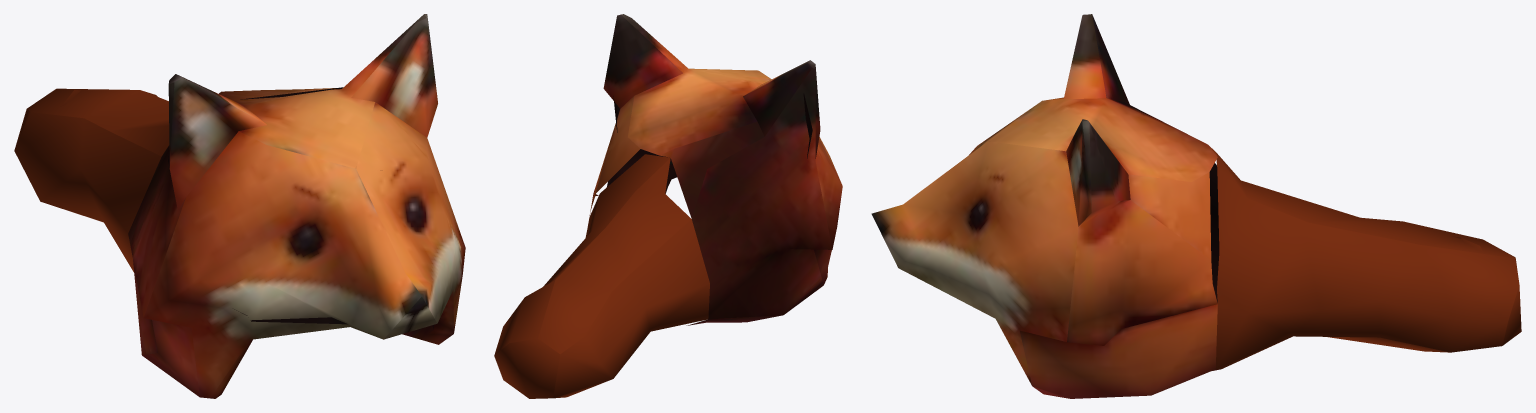
File: red-fox.glb
3 views of the same model, side by side, from view 1: azimuth 30°, elevation 25°; view 2: azimuth 150°, elevation 25°; view 3: azimuth 270°, elevation 25° (orthographic). The views are drawn at different scales.
Parts seen in each view (by area): view 1: geometry_0; view 2: geometry_0; view 3: geometry_0.
Boxes of the visible parts, x1=… form: geometry_0: x1=14, y1=14, x2=465, y2=398; geometry_0: x1=494, y1=14, x2=842, y2=398; geometry_0: x1=871, y1=14, x2=1521, y2=398.
Bounding box in the file's own units: 0.4431 × 0.44 × 0.9022.
Materials: 2 (1 with a texture image).
